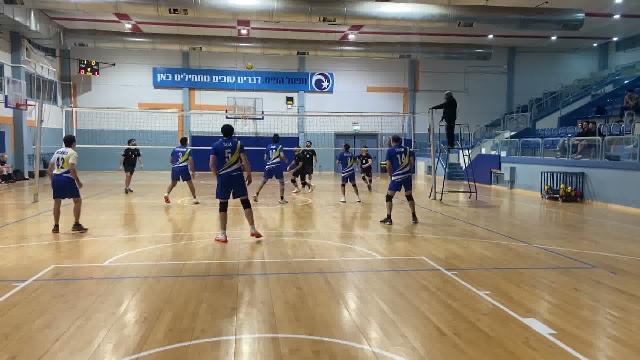ball: (245, 63, 256, 72)
